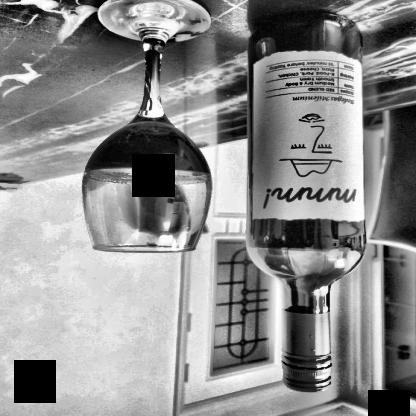umm: (252, 60, 362, 216)
